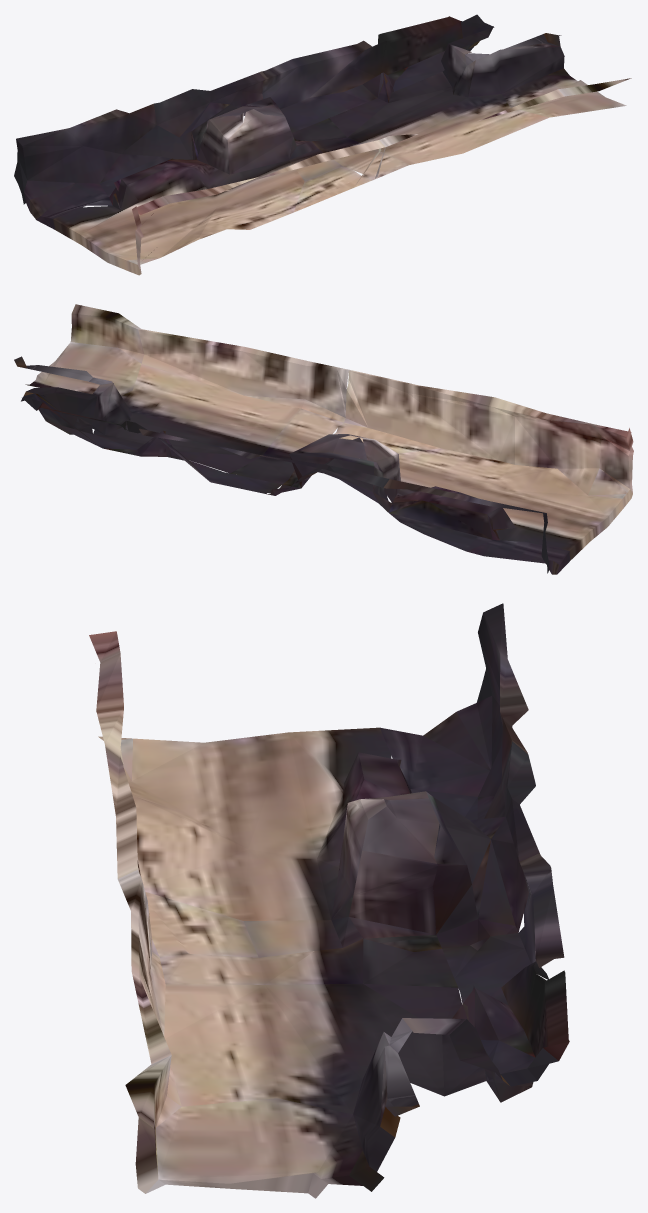
3 renders of one model, top to bottom at view 1: azimuth 30°, elevation 25°; view 2: azimuth 150°, elevation 25°; view 3: azimuth 270°, elevation 25°, orthographic. The views are drawn at different scales.
Parts seen in each view (by area): view 1: Mesh_0; view 2: Mesh_0; view 3: Mesh_0.
Boxes of the visible parts, left/top/right/bottom form: Mesh_0: left=14, top=14, right=631, bottom=275; Mesh_0: left=14, top=304, right=633, bottom=574; Mesh_0: left=89, top=603, right=569, bottom=1198.
Bounding box in the file's own units: 30.42 × 4.06 × 12.3.
Materials: 1 (1 with a texture image).
